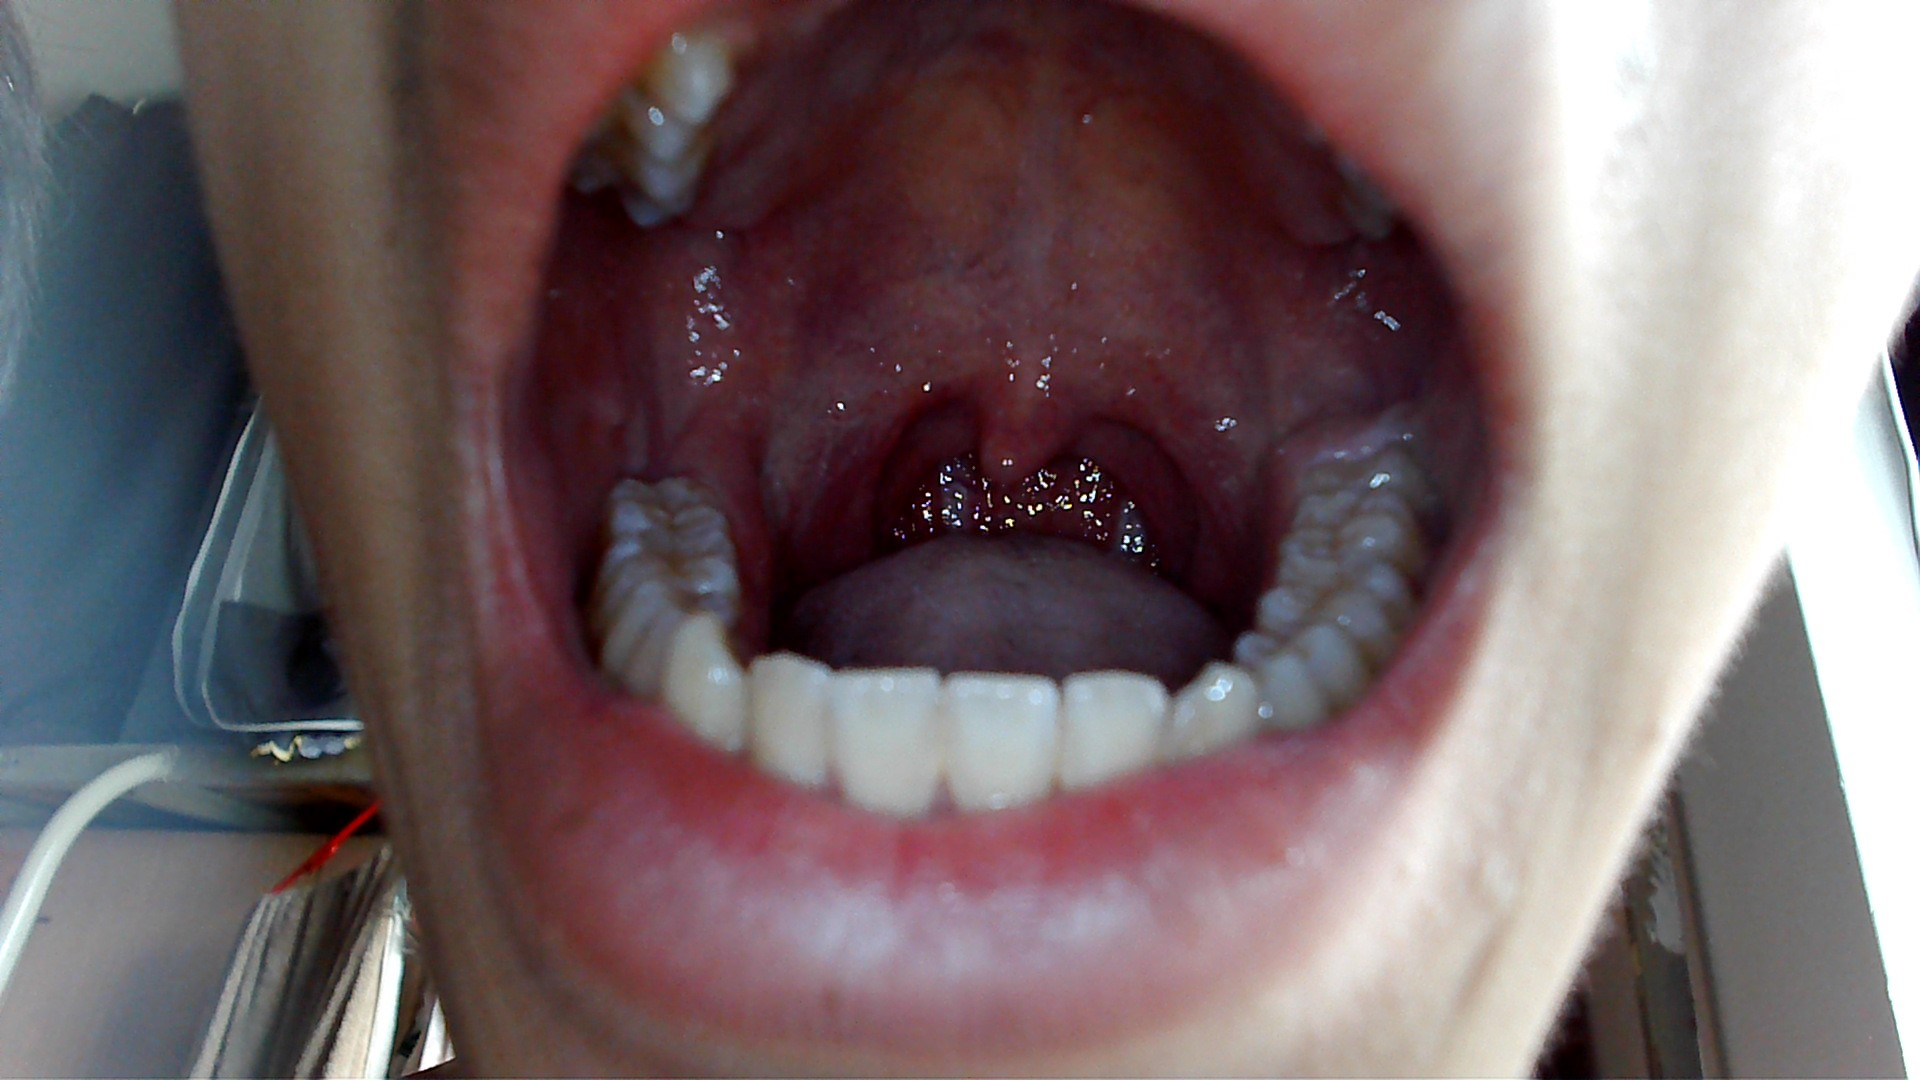throat: (1110, 376, 1230, 576), (833, 372, 953, 560)
